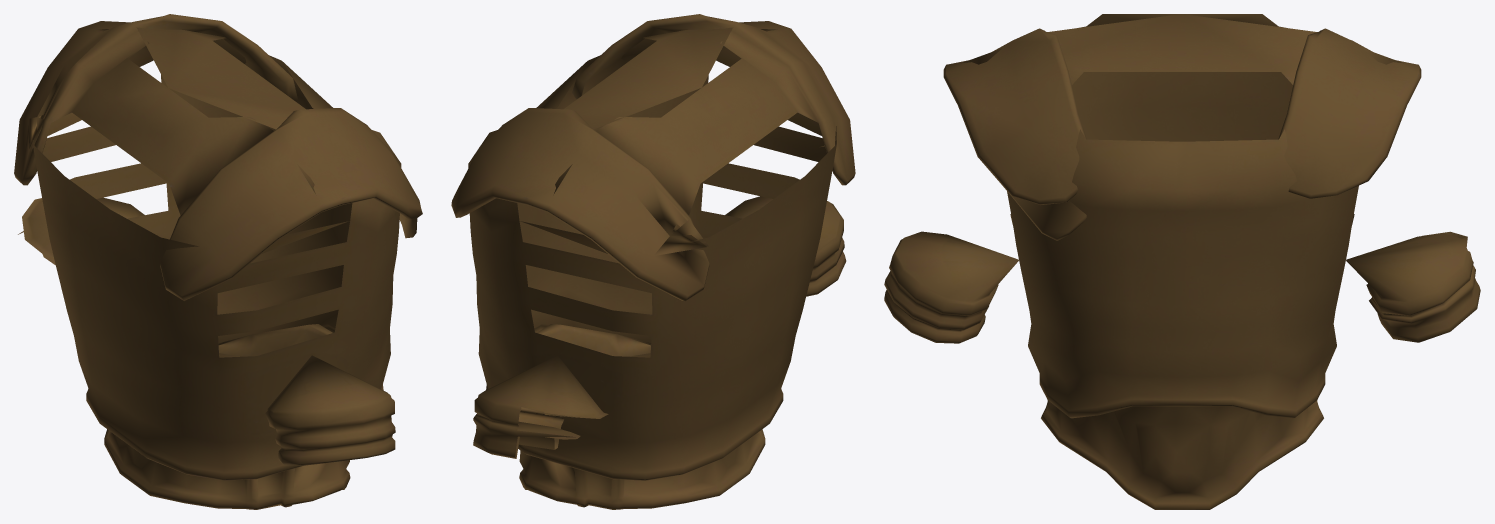
File: gate_jerkin.glb
3 renders of one model, left to right at view 1: azimuth 30°, elevation 25°; view 2: azimuth 150°, elevation 25°; view 3: azimuth 270°, elevation 25°, orthographic. The views are drawn at different scales.
Parts seen in each view (by area): view 1: base_model_path; view 2: base_model_path; view 3: base_model_path.
Boxes of the visible parts, x1,y1,x2,y2 form: base_model_path: [14, 14, 422, 509]; base_model_path: [451, 14, 855, 509]; base_model_path: [884, 14, 1480, 509].
Size of the model in its own units: 0.5185 by 0.7964 by 0.9999.
1 material, 1 textured.
